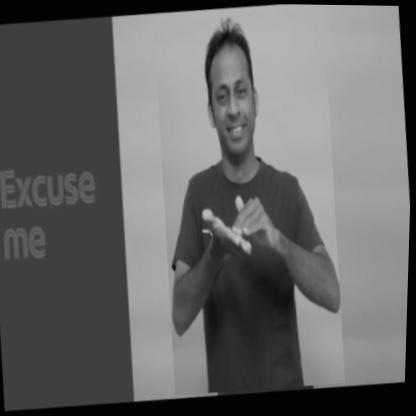ExcuseMe: (146, 7, 357, 397)
